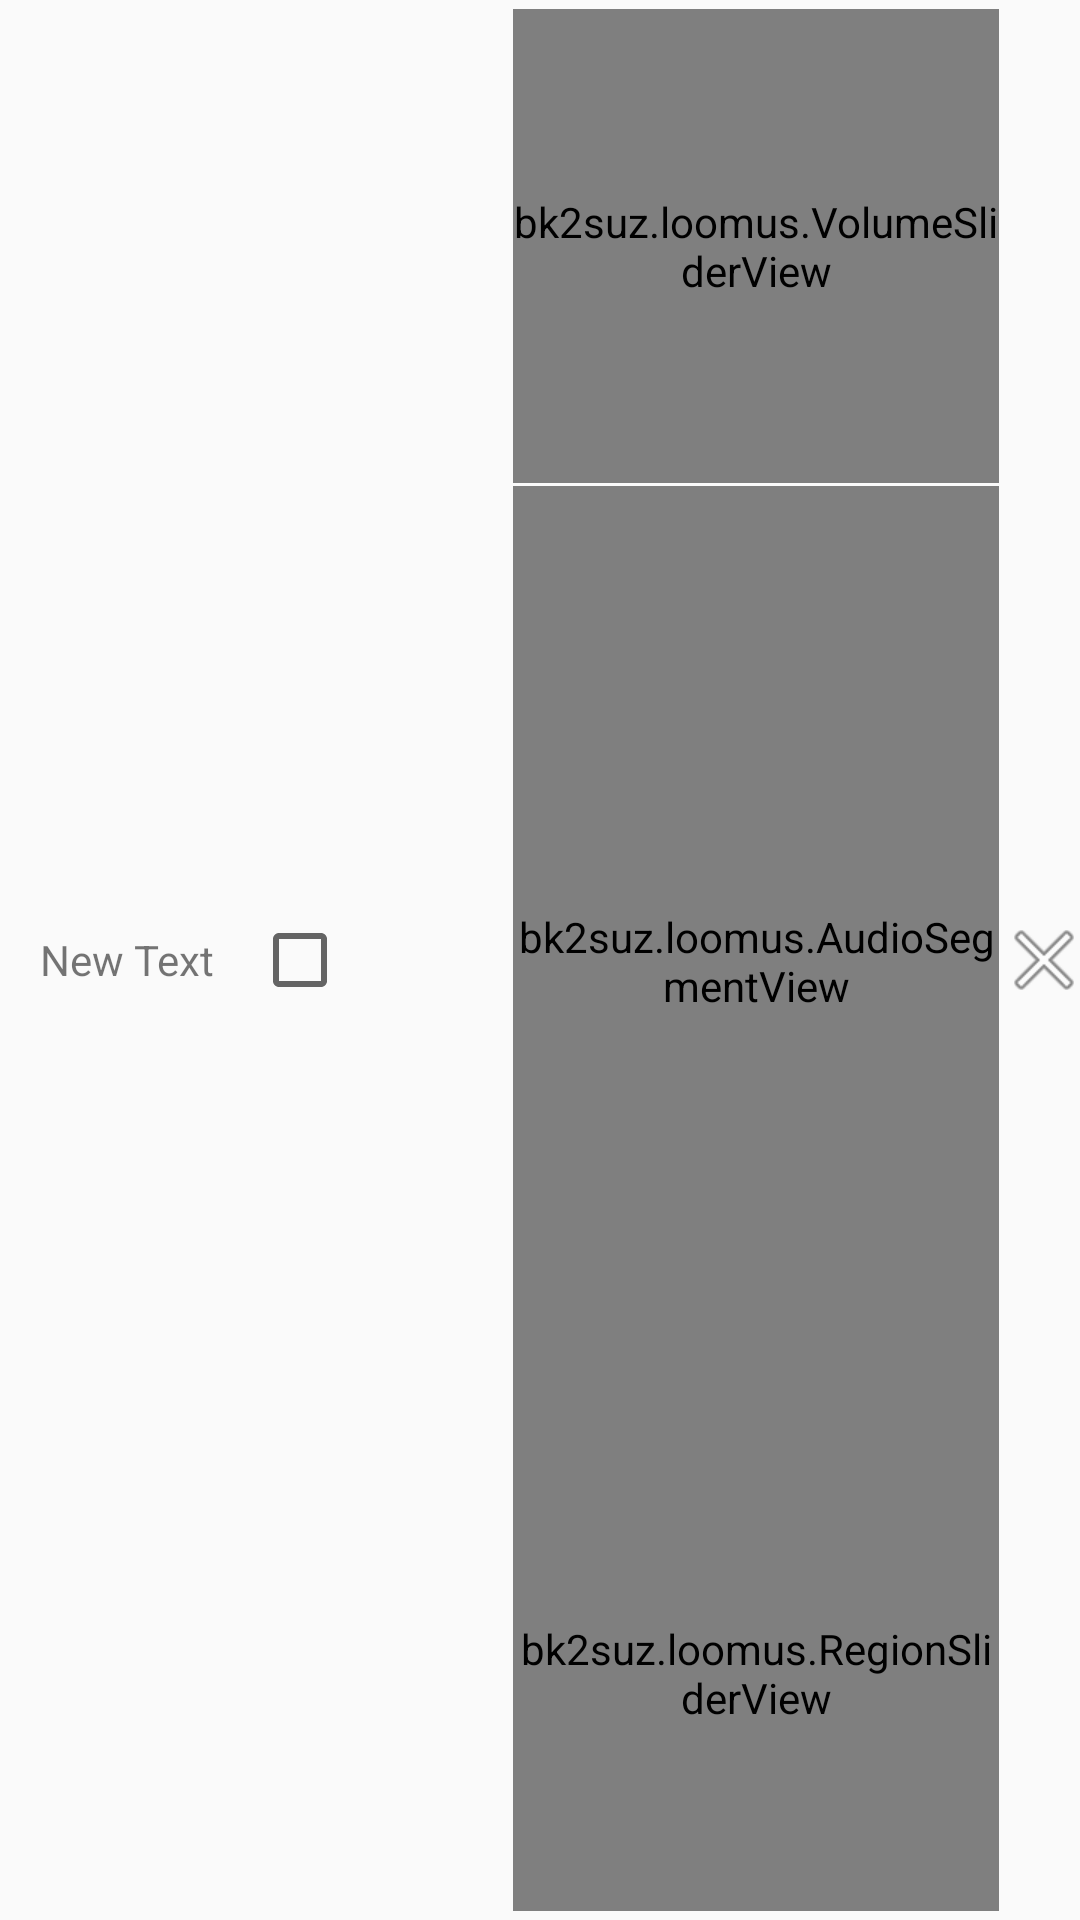

Icons on this 1080px×1920px Android screen, each with its box as {"x1": x1, "y1": y1, "x2": x2, "y2": y2}:
close clear cancel: {"x1": 1014, "y1": 930, "x2": 1074, "y2": 990}
